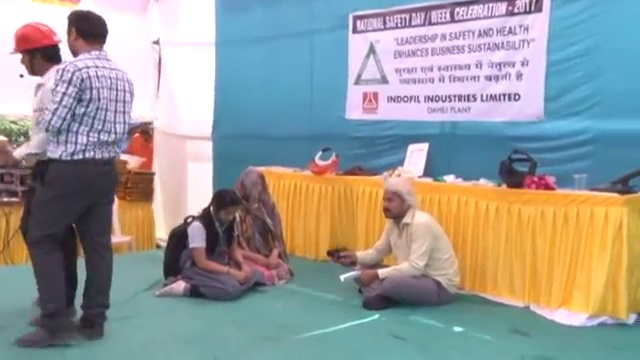helmet: (11, 20, 63, 55), (119, 153, 148, 169)
helmet_off: (375, 176, 418, 228), (65, 10, 108, 58), (238, 168, 273, 222), (205, 188, 240, 228), (138, 121, 153, 139)
helmet_on: (11, 21, 64, 79)
person: (21, 10, 136, 336), (341, 174, 460, 316), (160, 187, 267, 301), (221, 167, 292, 288), (126, 122, 154, 170)
